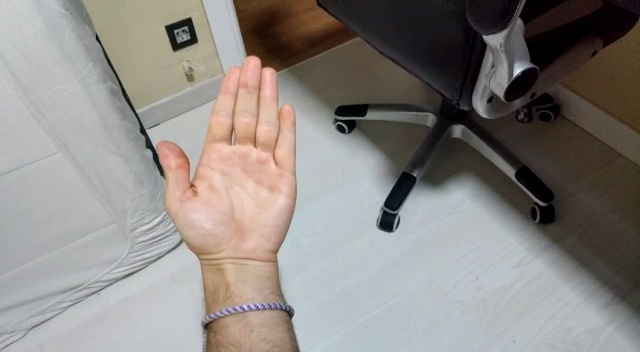Palm: (152, 54, 303, 279)
